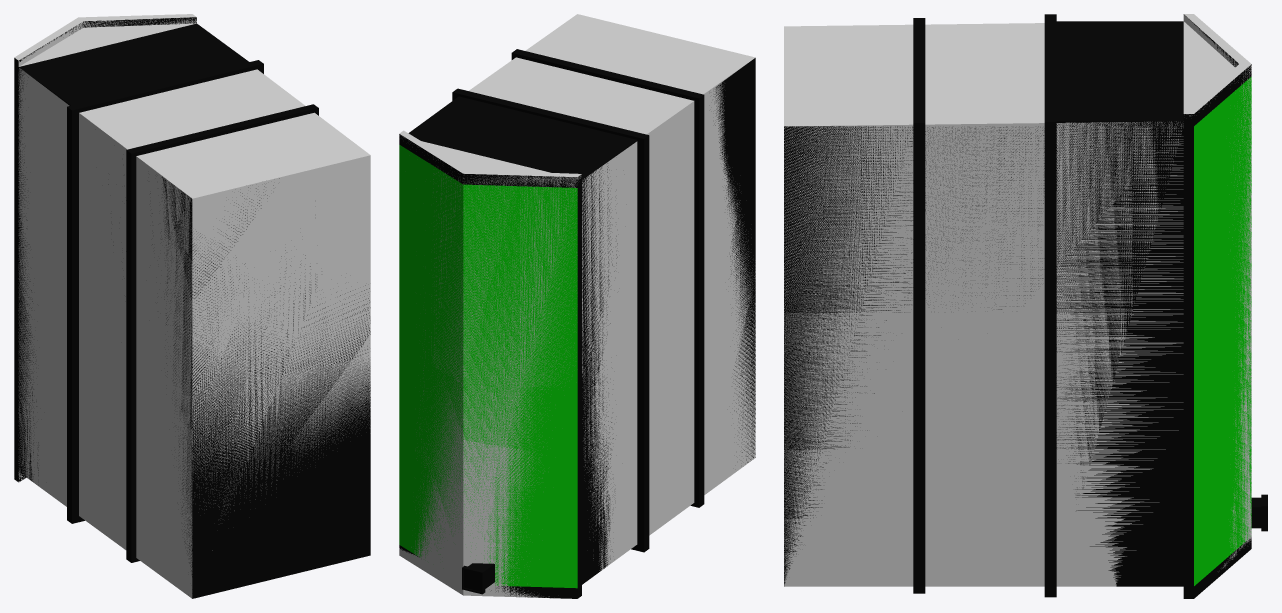
File: Building2Model.fbx
3 renders of one model, left to right at view 1: azimuth 30°, elevation 25°; view 2: azimuth 150°, elevation 25°; view 3: azimuth 270°, elevation 25°, orthographic. The views are drawn at different scales.
Parts seen in each view (by area): view 1: Building2Model_col, Building2Model; view 2: Building2Model, Building2Model_col; view 3: Building2Model_col, Building2Model.
Boxes of the visible parts, x1,y1,x2,y2 form: Building2Model_col: [14, 14, 370, 598]; Building2Model: [14, 17, 370, 598]; Building2Model: [399, 49, 755, 598]; Building2Model_col: [399, 14, 755, 597]; Building2Model_col: [784, 14, 1251, 586]; Building2Model: [784, 14, 1267, 598].
Size of the model in its own units: 1069 by 2246 by 2030.
